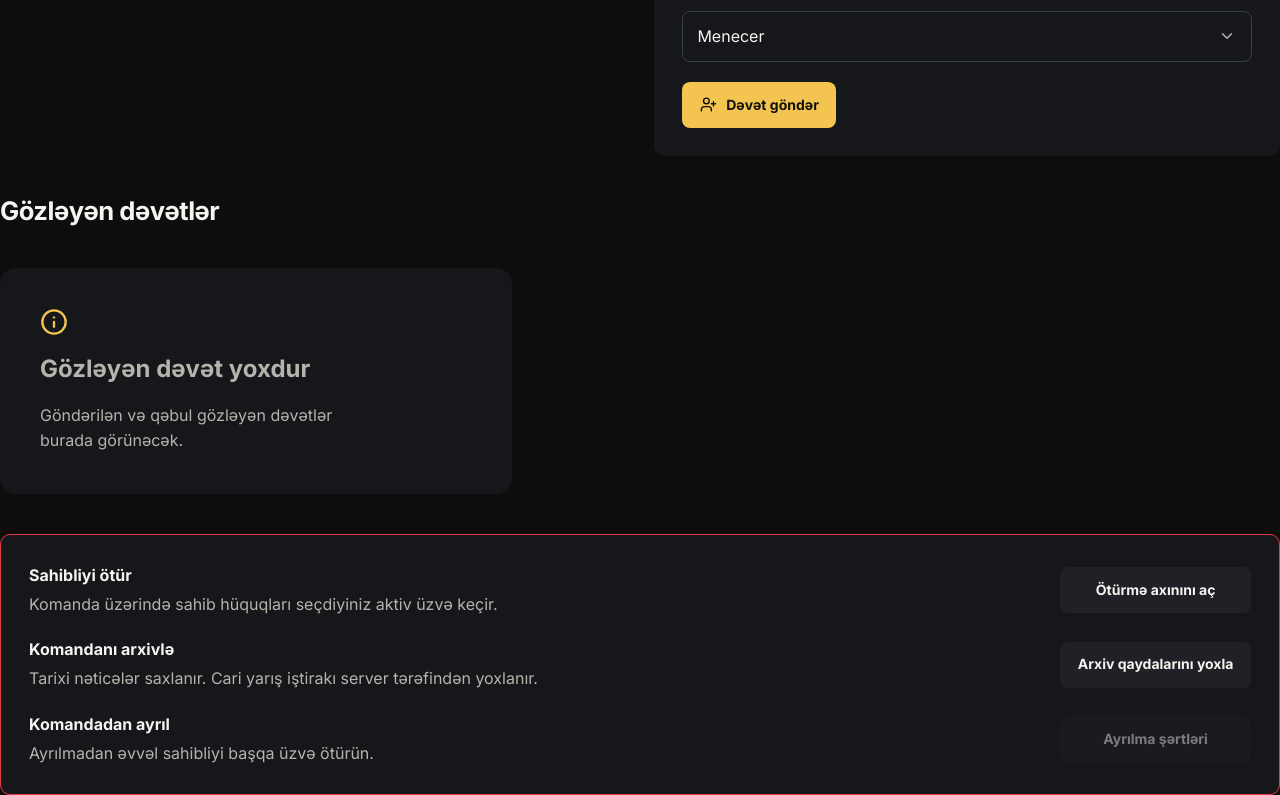
workspace acknowledged persistence and authority › allows reviewing archive requirements but gates unavailable destructive writes
(page scrolled)
Click the button "Arxiv qaydalarını yoxla" at (1156, 665), box x1=1060 y1=642 x2=1251 y2=688
(page scrolled)
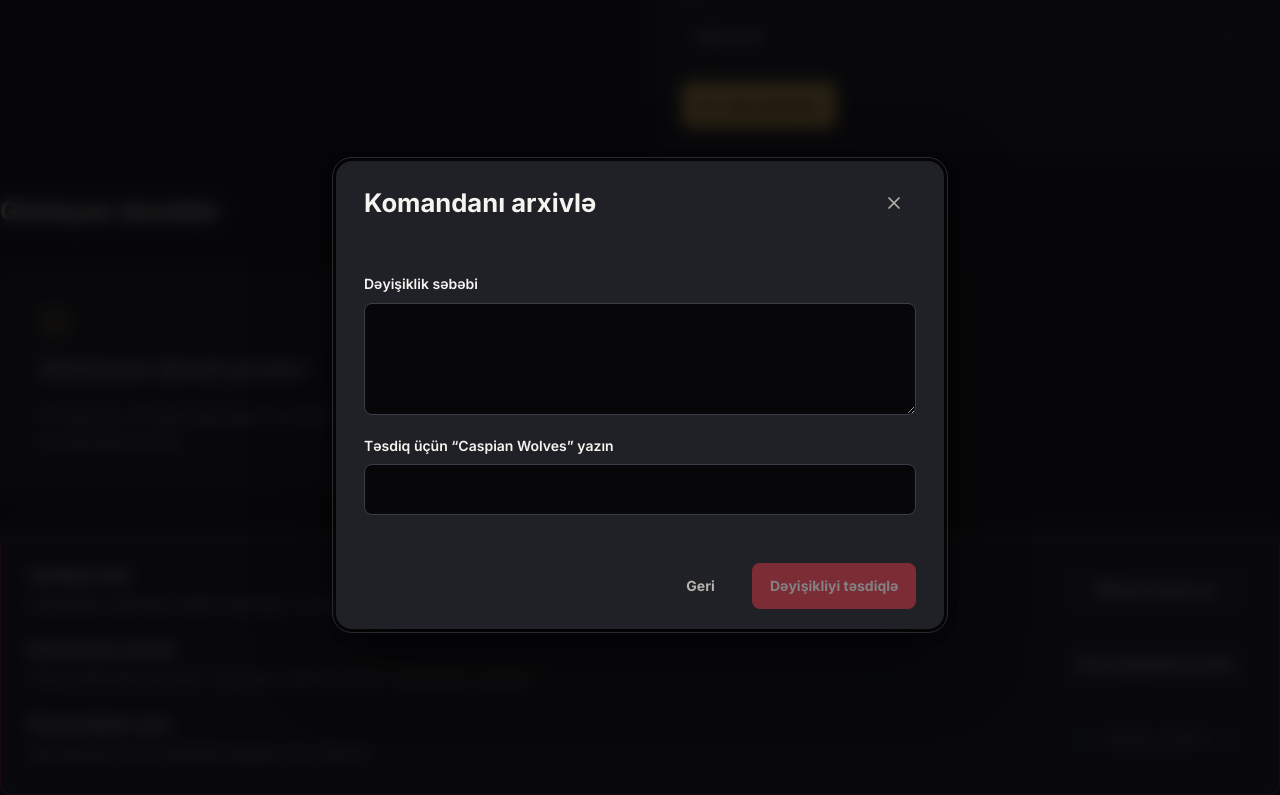
expect the dialog is shown: met, box x1=336 y1=161 x2=944 y2=629
expect the button "Dəyişikliyi təsdiqlə" is disabled: met, box x1=752 y1=563 x2=916 y2=609
